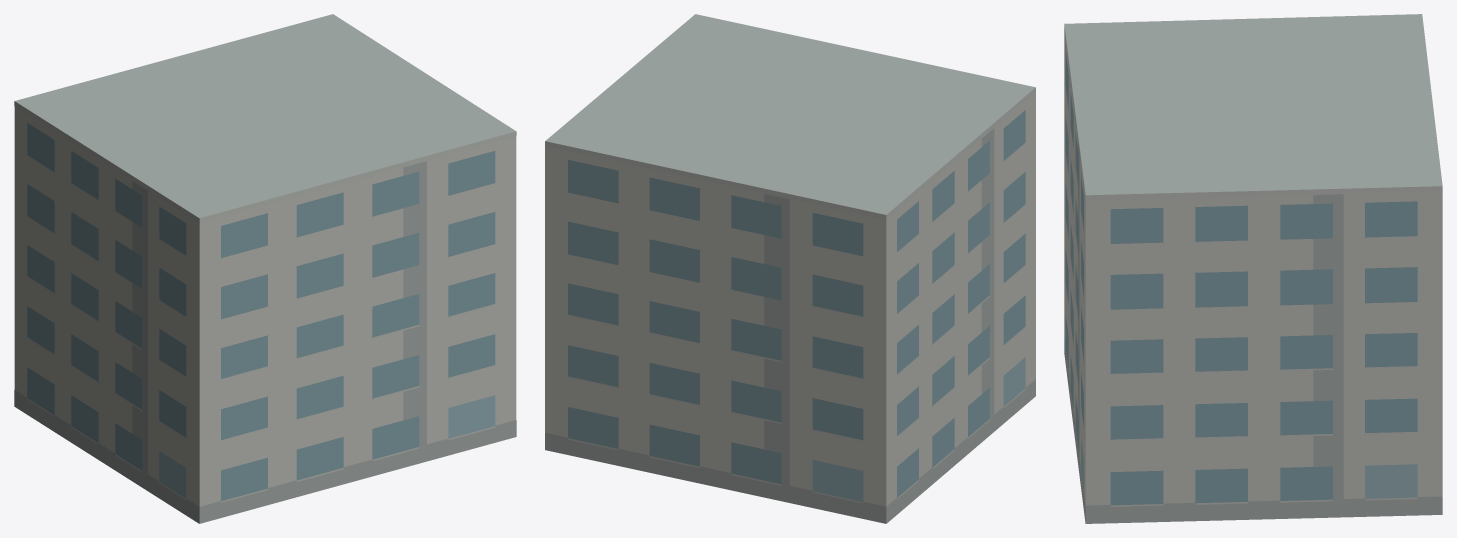
File: survey-upis-32763174.glb
3 views of the same model, side by side, from view 1: azimuth 30°, elevation 25°; view 2: azimuth 150°, elevation 25°; view 3: azimuth 270°, elevation 25° (orthographic). The views are drawn at different scales.
Visible parts, largest first — view 1: survey-upis-32763174.tmp; view 2: survey-upis-32763174.tmp; view 3: survey-upis-32763174.tmp.
Part boxes in pixels (box(x1,y1,x2,y2)): survey-upis-32763174.tmp: box(14, 14, 516, 523); survey-upis-32763174.tmp: box(545, 14, 1035, 523); survey-upis-32763174.tmp: box(1064, 14, 1442, 523).
Bounding box in the file's own units: 17.04 × 14.4 × 15.04.
